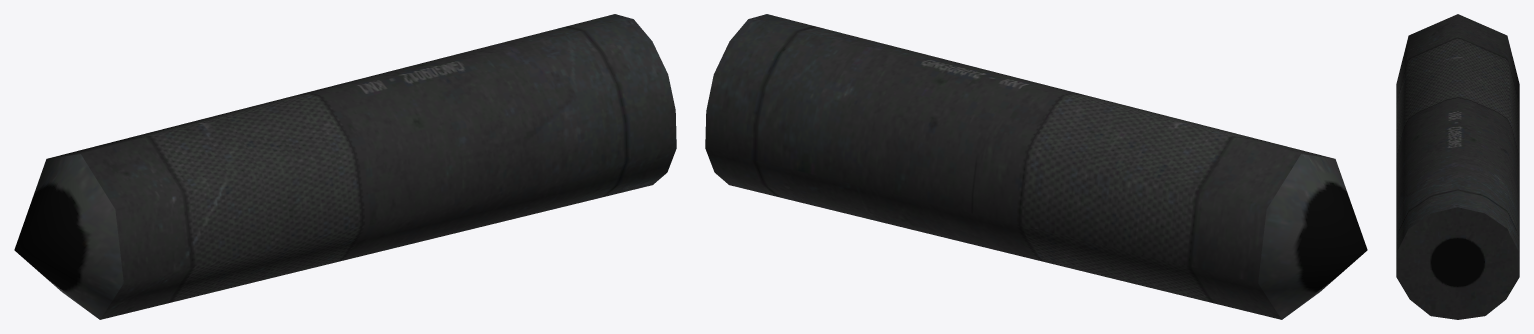
The model's file is t6_attach_smg_silencer1_world_LOD0.obj.
The picture shows the model from 3 angles, left to right: view 1: azimuth 30°, elevation 25°; view 2: azimuth 150°, elevation 25°; view 3: azimuth 270°, elevation 25°; orthographic projection. The views are drawn at different scales.
Visible parts, largest first — view 1: mtl_t6_attach_smg_silencer1; view 2: mtl_t6_attach_smg_silencer1; view 3: mtl_t6_attach_smg_silencer1.
Boxes of the visible parts, bbox=[...] form: mtl_t6_attach_smg_silencer1: bbox=[14, 14, 676, 319]; mtl_t6_attach_smg_silencer1: bbox=[705, 14, 1367, 319]; mtl_t6_attach_smg_silencer1: bbox=[1396, 14, 1519, 319].
Size of the model in its own units: 18.81 by 4.57 by 4.52.
